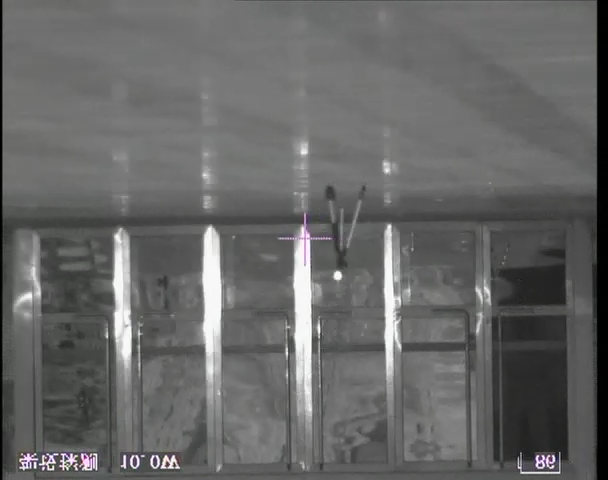my: (331, 270, 343, 282)
